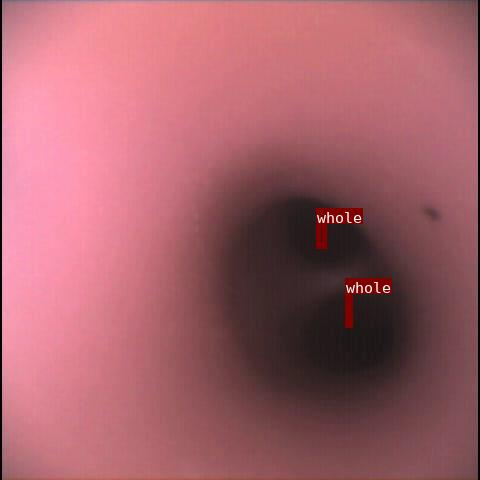whole: (316, 224, 326, 248), (345, 294, 352, 327)
